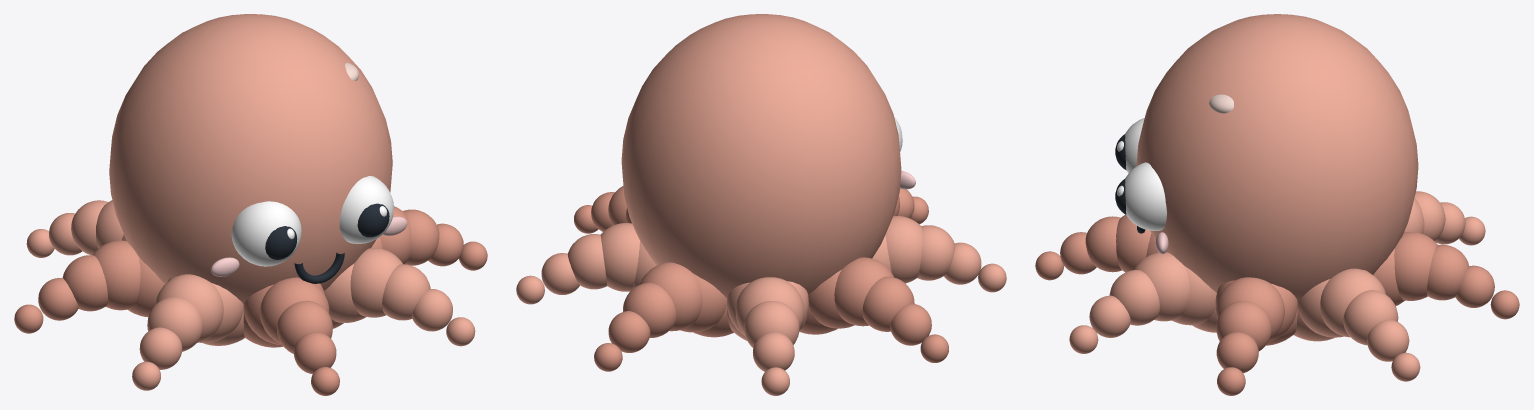
Rendered from inky.glb.
3 renders of one model, left to right at view 1: azimuth 30°, elevation 25°; view 2: azimuth 150°, elevation 25°; view 3: azimuth 270°, elevation 25°, orthographic.
Visible parts, largest first — view 1: Inky, object 50, object 10, object 28, object 22, object 53, object 16, object 11, object 23, object 29, object 17, object 5 (+21 smaller); view 2: Inky, object 28, object 40, object 46, object 22, object 29, object 41, object 34, object 35, object 47, object 23, object 42 (+18 smaller); view 3: Inky, object 10, object 53, object 40, object 46, object 4, object 11, object 47, object 5, object 41, object 17, object 16 (+20 smaller).
Boxes of the visible parts, x1,y1,x2,y2 form: Inky: (109, 14, 407, 304); object 50: (231, 201, 301, 266); object 10: (350, 248, 402, 317); object 28: (93, 240, 140, 310); object 22: (155, 274, 223, 342); object 53: (339, 176, 393, 243); object 16: (260, 277, 329, 343); object 11: (382, 264, 430, 320); object 23: (147, 297, 203, 351); object 29: (62, 255, 108, 311); object 17: (277, 300, 332, 353); object 5: (403, 209, 439, 265); Inky: (621, 14, 915, 298); object 28: (834, 257, 893, 326); object 40: (639, 262, 702, 331); object 46: (600, 223, 639, 291); object 22: (885, 216, 922, 283); object 29: (862, 276, 914, 331); object 41: (623, 282, 676, 337); object 34: (735, 277, 804, 334); object 35: (744, 301, 799, 347); object 47: (567, 234, 607, 289); object 23: (917, 225, 955, 280); object 42: (608, 311, 650, 352); Inky: (1136, 14, 1418, 301); object 10: (1134, 252, 1189, 321); object 53: (1125, 162, 1166, 230); object 40: (1394, 232, 1437, 300); object 46: (1320, 268, 1385, 337); object 4: (1216, 277, 1284, 339); object 11: (1109, 270, 1159, 325); object 47: (1343, 290, 1398, 345); object 5: (1216, 300, 1271, 351); object 41: (1426, 244, 1469, 300); object 17: (1085, 216, 1121, 272); object 16: (1116, 214, 1151, 272).
Bounding box in the file's own units: 1.99 × 1.29 × 1.99.
